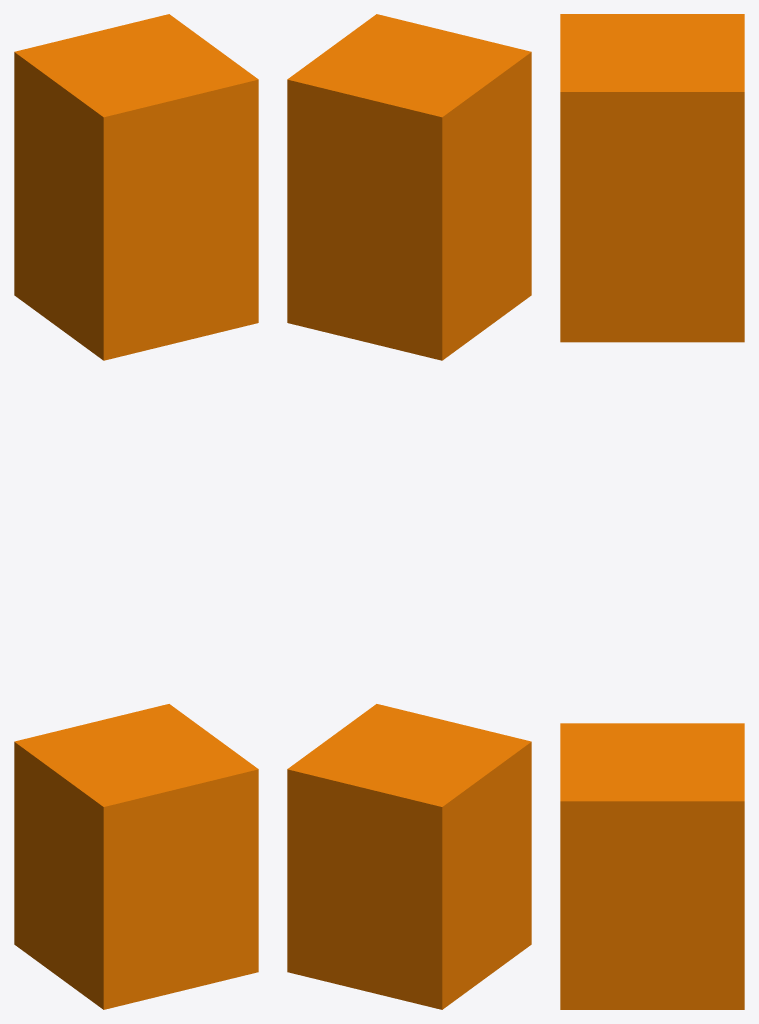
Rendered from SideBuildings1-1.obj.
3 views of the same model, side by side, from view 1: azimuth 30°, elevation 25°; view 2: azimuth 150°, elevation 25°; view 3: azimuth 270°, elevation 25° (orthographic). The views are drawn at different scales.
Bounding box in the file's own units: 0.4 × 2.2 × 0.4.
Materials: 1 (1 with a texture image).
